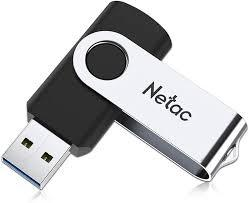Flash-drive: (2, 0, 249, 203)
